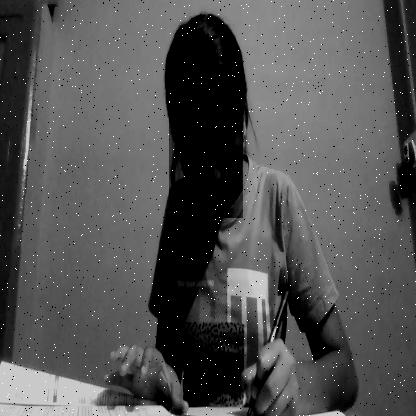Normal: (169, 64, 243, 218)
